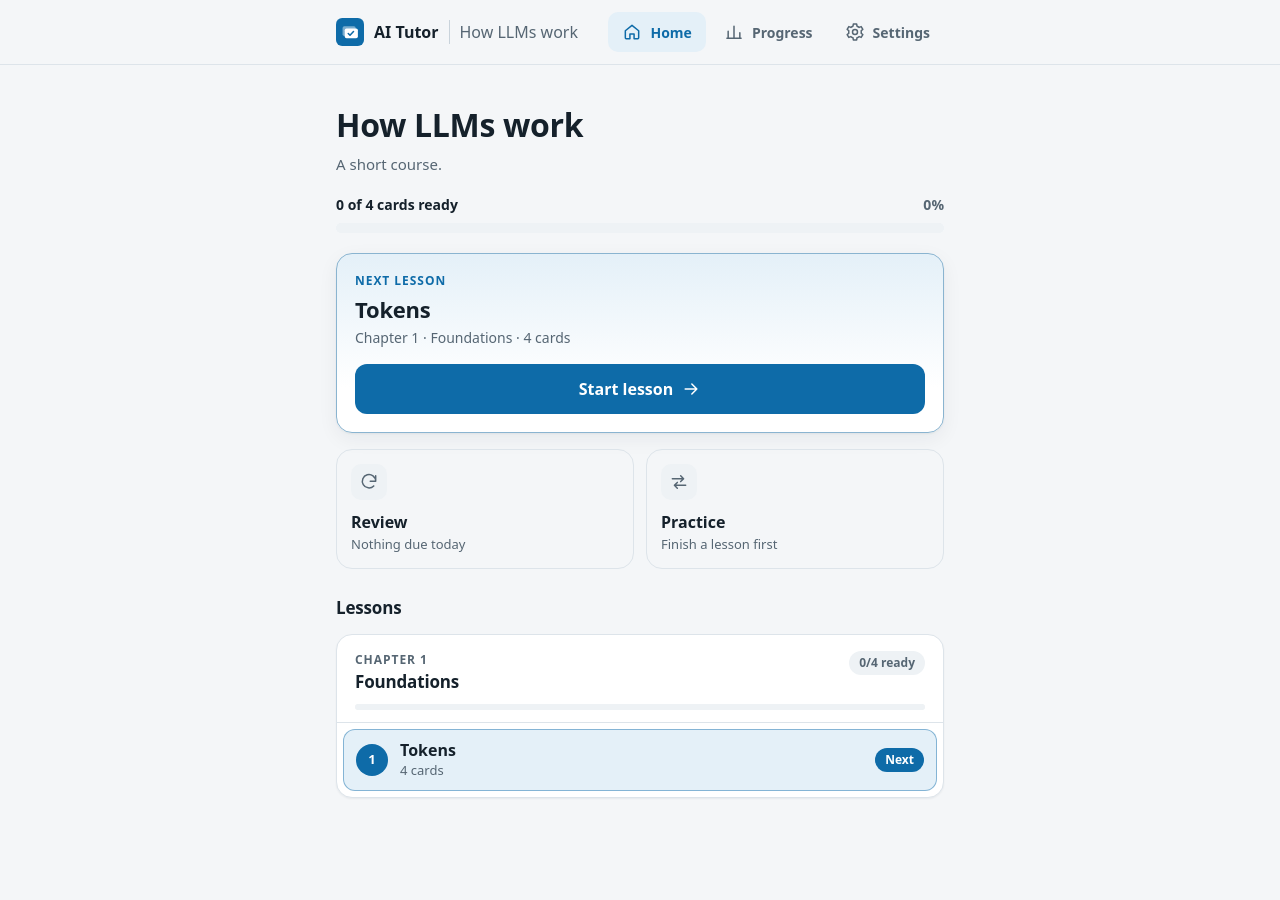
Test: App › goes to sign-in when the sign-in expires in the middle of a session
Click the button "Start lesson". click: (640, 389)
box: [355,364,925,414]
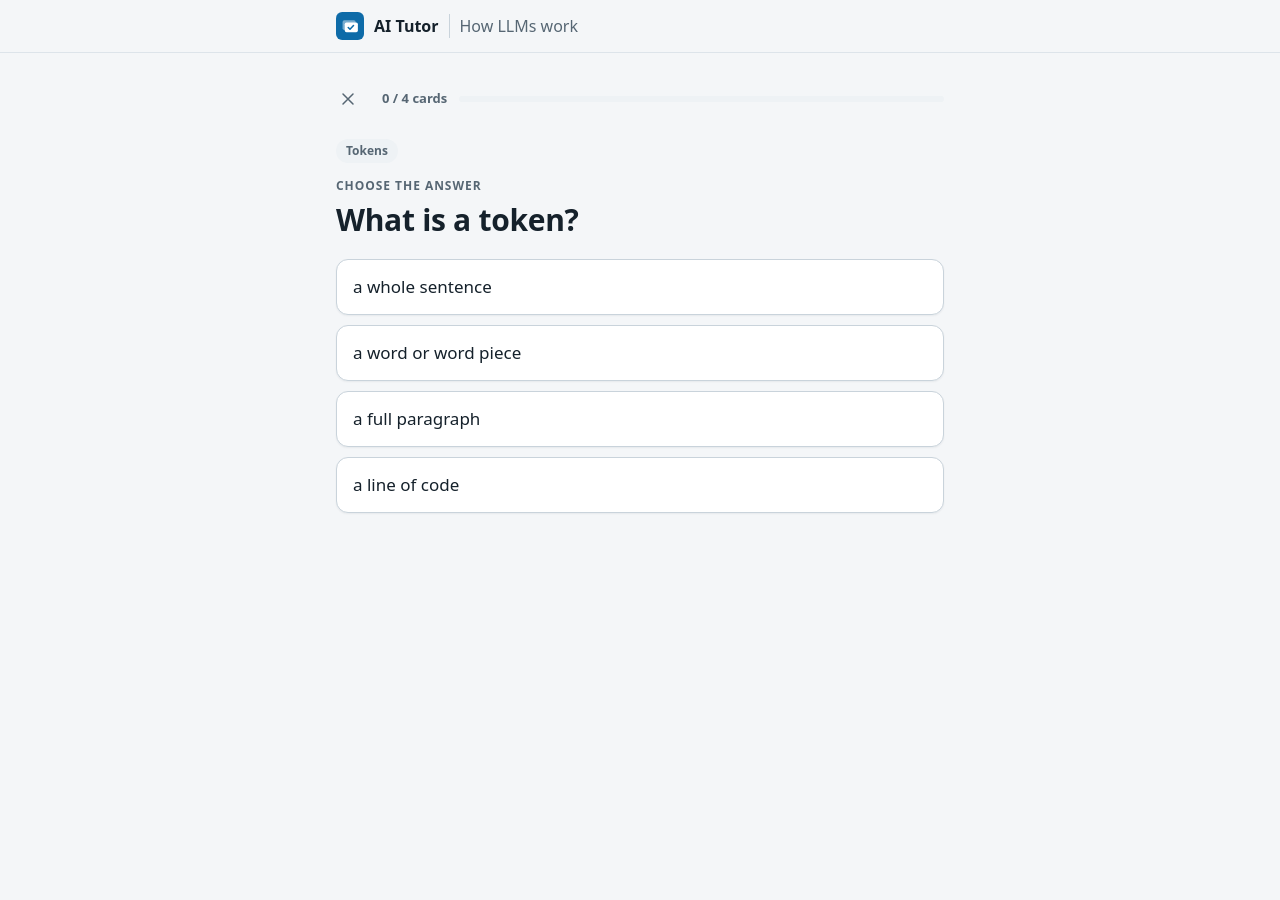
Click the button "a word or word piece". click: (437, 352)
box: [336,324,944,380]
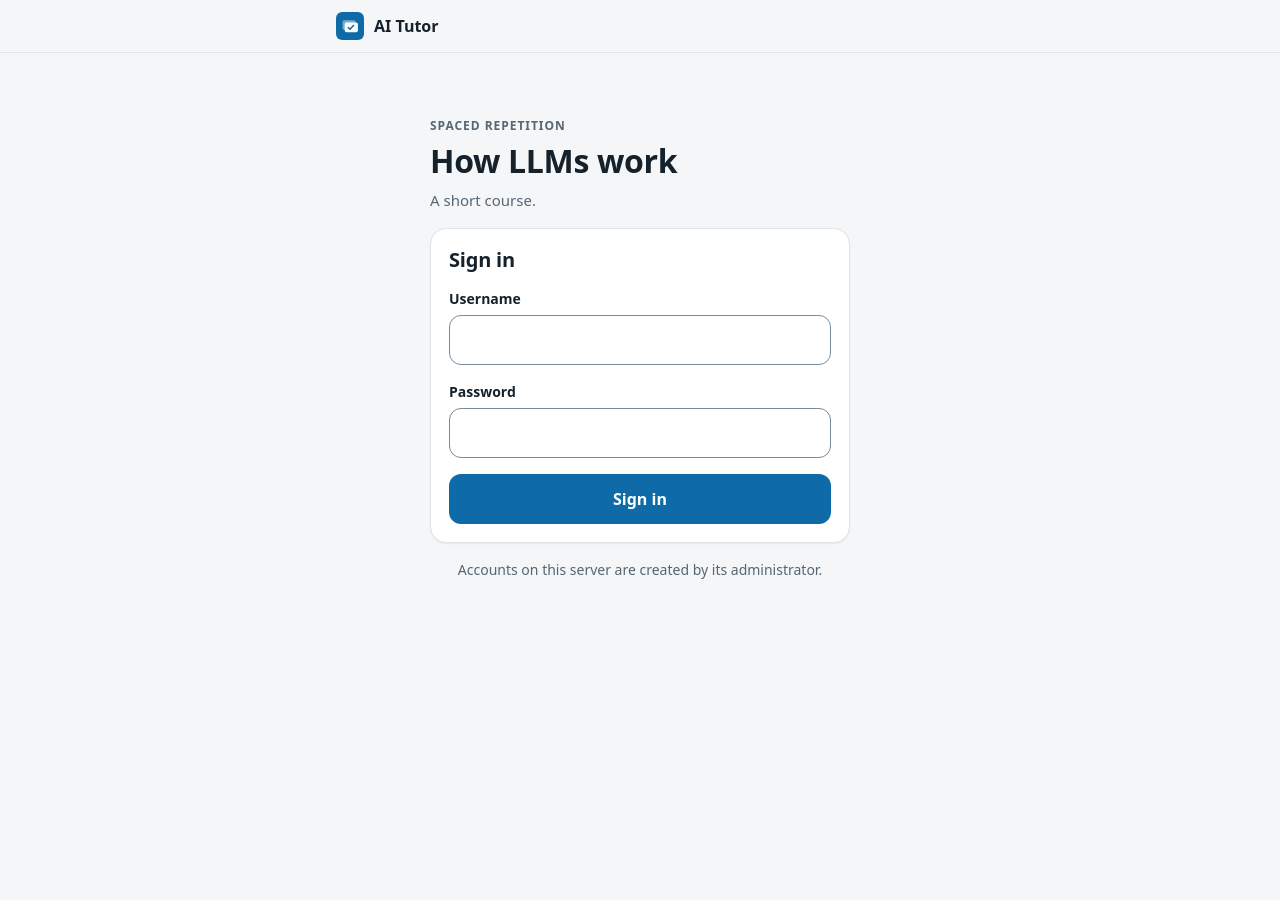
Check: the heading "Sign in" is shown, box [449,246,515,272]
